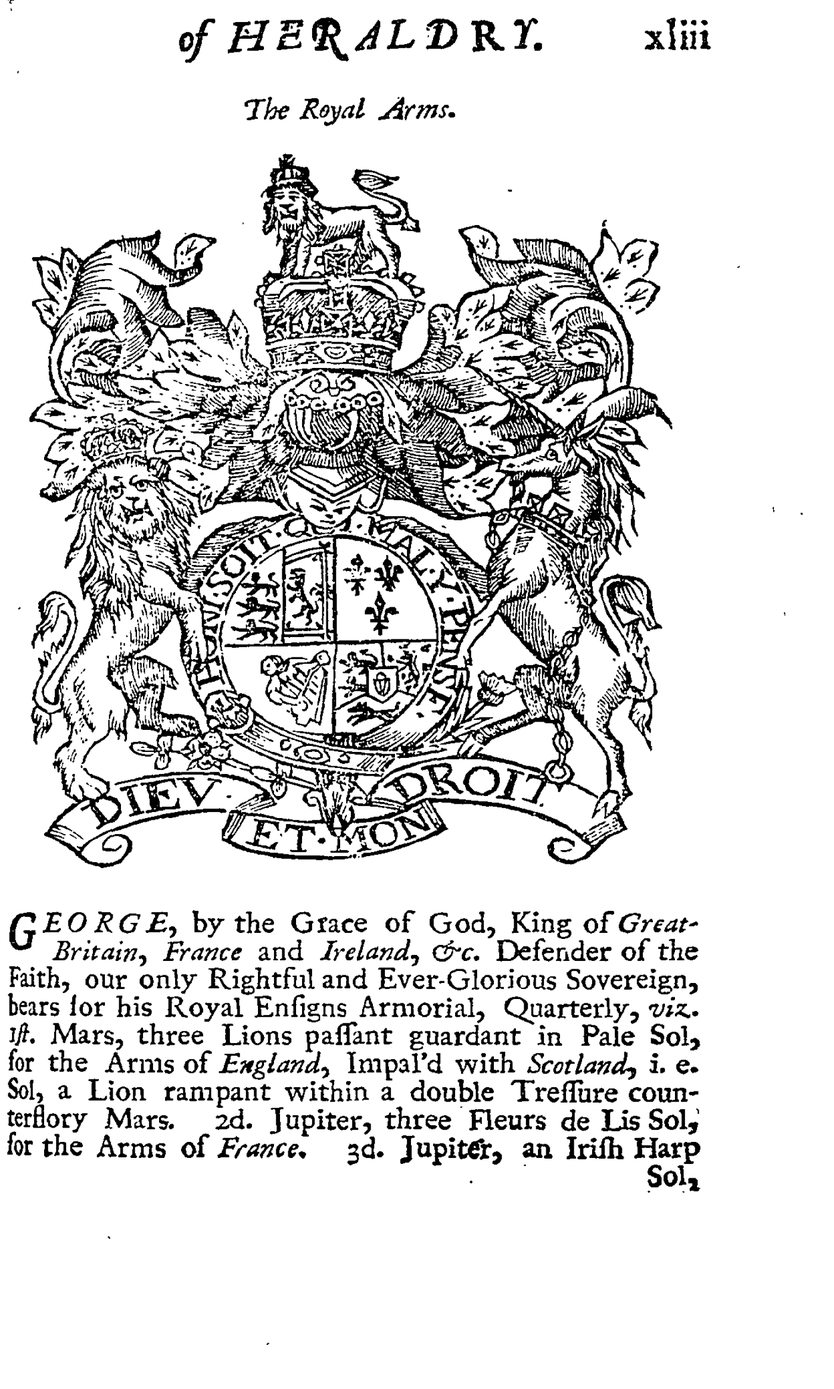coat_of_arms: (35, 72, 670, 873)
